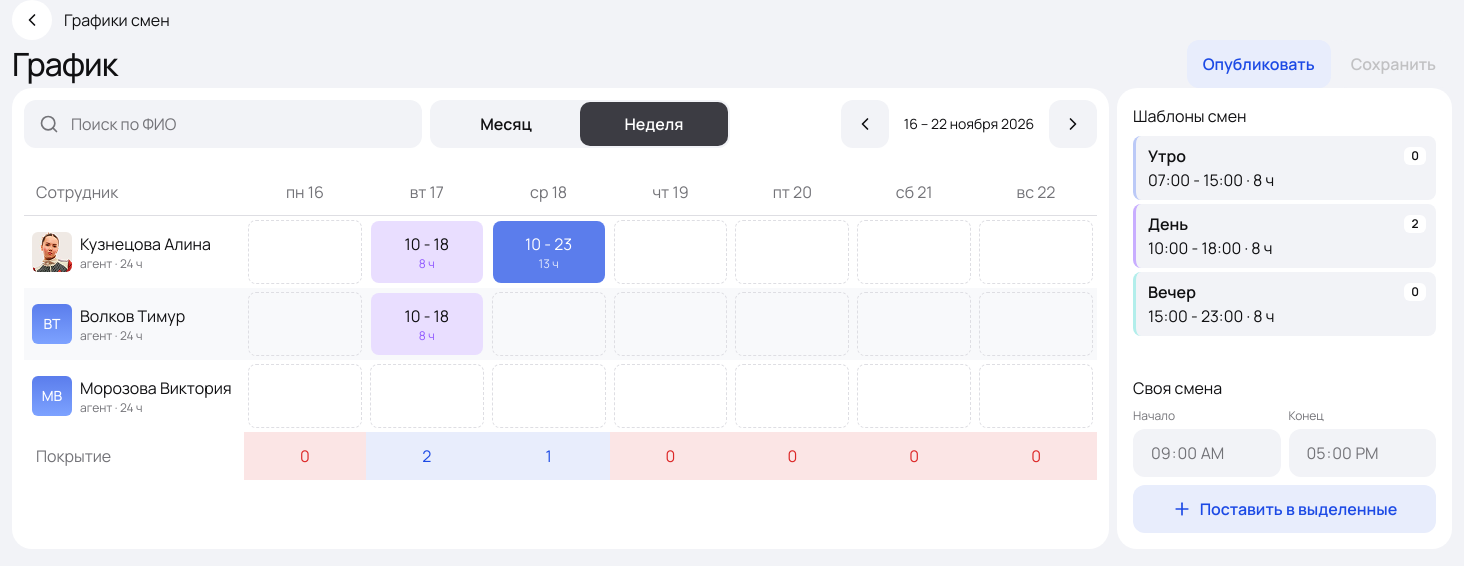
Test case: SchedulePage: назначение смен › панель выделения появляется вместе с выделением и пропадает после «Снять»
Later steps or results of the test are not shown.
Check: the table is shown, box x1=24 y1=168 x2=1097 y2=537
What coordinates should you click on to do the following:
click the cell named "Морозова Виктория, пн 16: нет смены"
I would click on:
 (305, 396)
Its box is x1=244 y1=360 x2=366 y2=432.
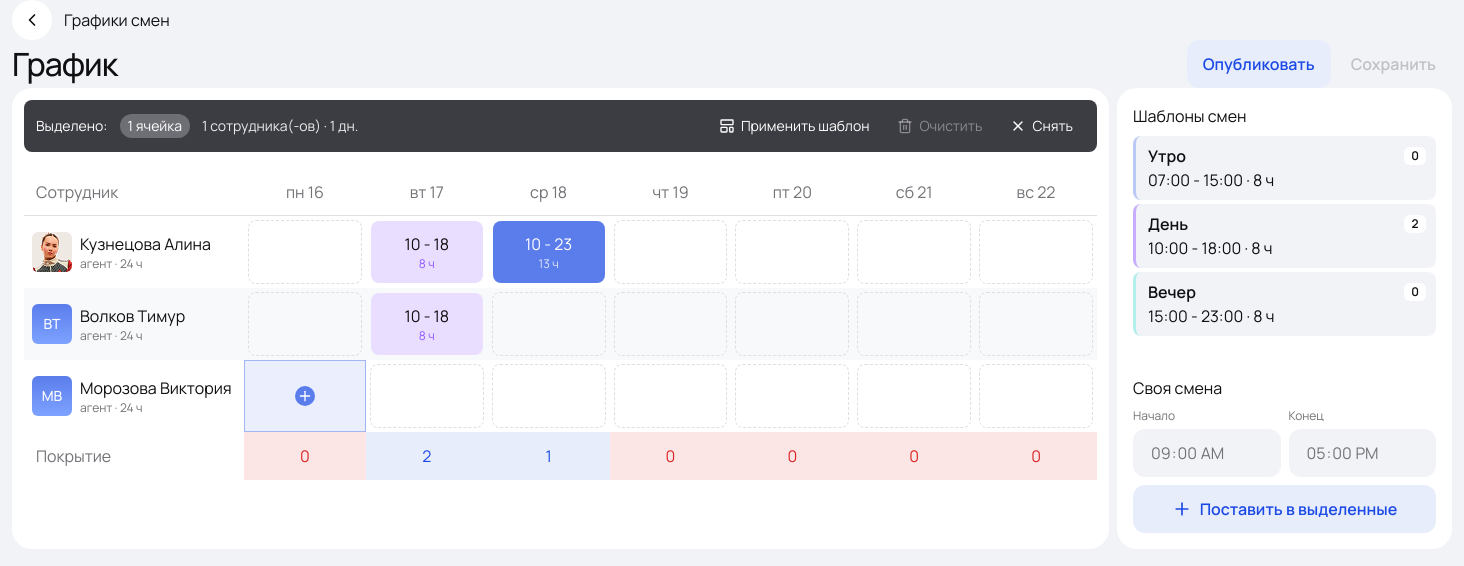
Check: the element named "Действия с выделенными ячейками" shows "1 ячейка", box x1=24 y1=100 x2=1097 y2=152
